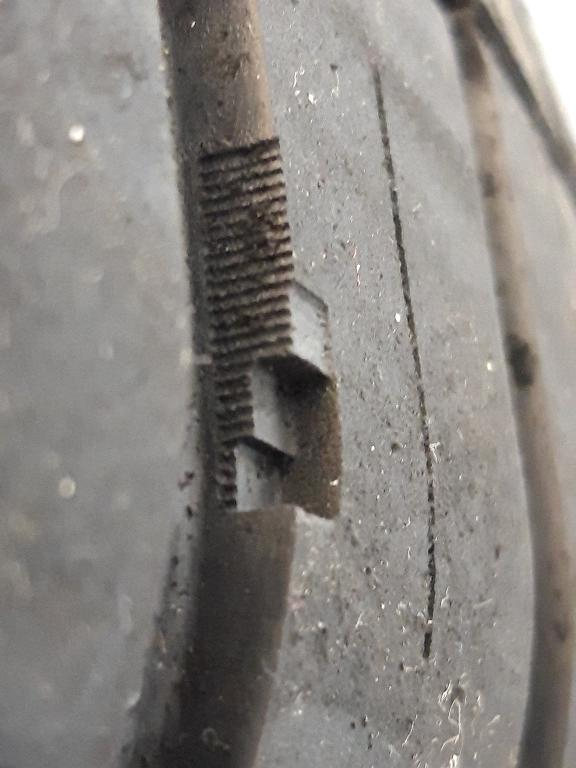temoin:50: (186, 274, 357, 531)
